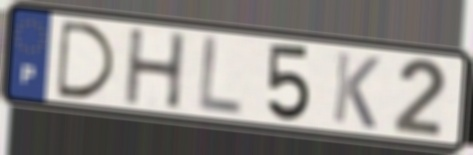2: (390, 57, 452, 142)
5: (265, 43, 312, 124)
D: (55, 18, 120, 102)
H: (123, 27, 189, 112)
K: (329, 49, 383, 132)
L: (195, 33, 246, 120)
